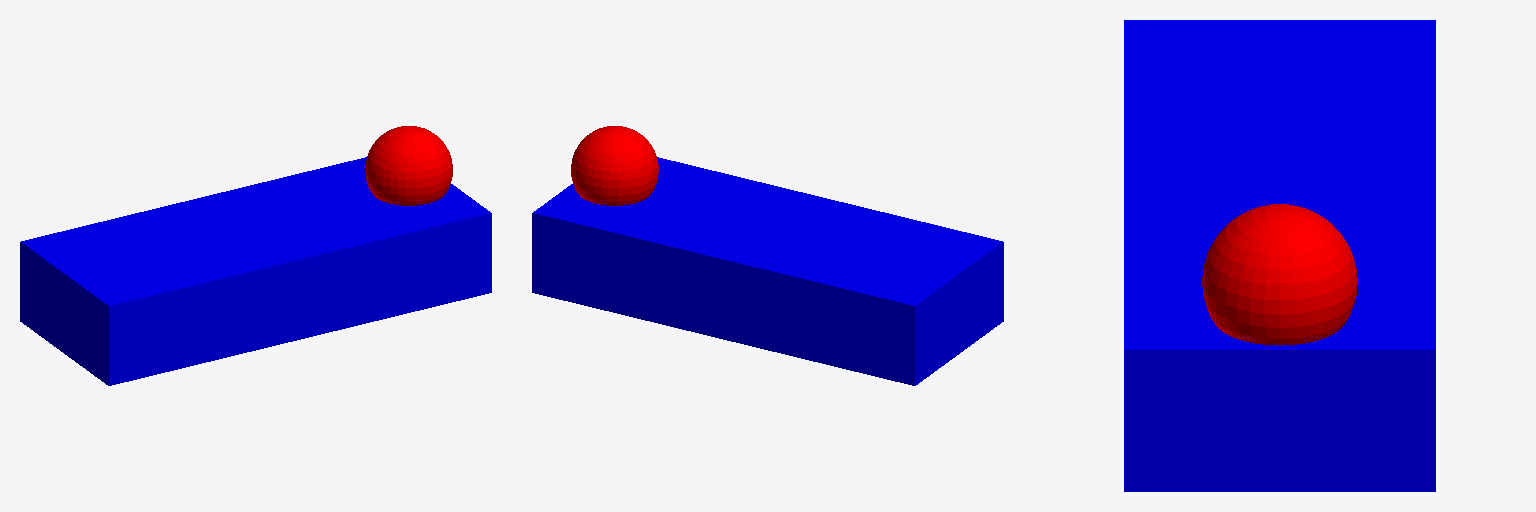
robot.urdf — mycar:
<!-- 
    需求: 底盘为长方体、
    在前方有一个可以沿Z轴自由旋转的摄像头
    的机器人模型
 -->
<robot name="mycar">
    <!-- 底盘 -->
    <link name="base_link">
        <visual>
            <geometry>
                <box size="0.5 0.2 0.1" />
            </geometry>
            <origin xyz="0 0 0" rpy="0 0 0" />
            <material name="blue">
                <color rgba="0 0 1.0 0.5" />
            </material>
        </visual>
    </link>

    <!-- 摄像头 -->
    <link name="camera">
        <visual>
            <geometry>
                <sphere radius="0.05" />
            </geometry>
            <origin xyz="0 0 0" rpy="0 0 0" />
            <material name="red">
                <color rgba="1 0 0 0.5" />
            </material>
        </visual>
    </link>

    <!-- 关节 -->
    <joint name="camera2baselink" type="continuous">
        <parent link="base_link"/>
        <child link="camera" />
        <!-- 需要计算两个 link 的物理中心之间的偏移量 -->
        <origin xyz="0.2 0 0.075" rpy="0 0 0" />
        <axis xyz="0 0 1" />
    </joint>

</robot>

--- What the picture shows (computed from the rendered views, not written in the file) ---
3 views of the same robot in one strip: view 1: azimuth 30°, elevation 25°; view 2: azimuth 150°, elevation 25°; view 3: azimuth 270°, elevation 25° (orthographic).
Robot: mycar — 2 links, 1 joints (1 continuous); root link base_link; default pose: every joint at zero.
Visible links, largest first — view 1: base_link, camera; view 2: base_link, camera; view 3: base_link, camera.
Link boxes in pixels (left/top/right/bottom): base_link: left=20, top=157, right=491, bottom=385; camera: left=365, top=126, right=452, bottom=205; base_link: left=532, top=157, right=1003, bottom=385; camera: left=571, top=126, right=658, bottom=205; base_link: left=1124, top=20, right=1435, bottom=491; camera: left=1202, top=204, right=1357, bottom=345.
Size in the robot's own frame: 0.5 by 0.2 by 0.175 metres.
Geometry: primitives only (box / cylinder / sphere), no mesh files.
